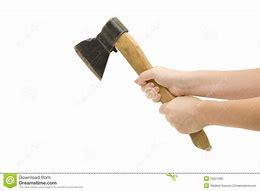axe: (73, 15, 213, 153)
